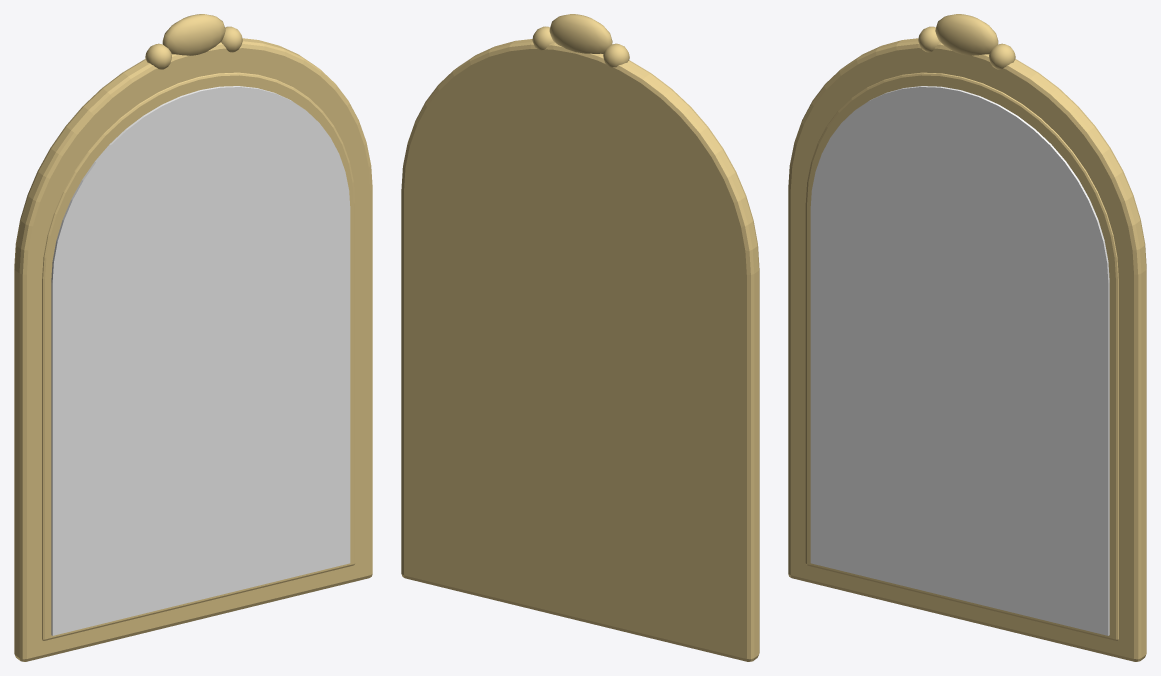
Rendered from mirror_ornate.glb.
The picture shows the model from 3 angles, left to right: view 1: azimuth 30°, elevation 25°; view 2: azimuth 150°, elevation 25°; view 3: azimuth 330°, elevation 25°; orthographic projection.
Visible parts, largest first — view 1: glass, frame, inner, crest, crestl; view 2: frame, crest; view 3: glass, frame, inner, crest, crestr.
Part boxes in pixels (left/top/right/bottom): glass: left=51, top=86, right=350, bottom=635; frame: left=14, top=38, right=372, bottom=661; inner: left=42, top=72, right=355, bottom=640; crest: left=162, top=14, right=225, bottom=55; crestl: left=145, top=43, right=171, bottom=69; frame: left=401, top=39, right=759, bottom=661; crest: left=549, top=14, right=612, bottom=53; glass: left=810, top=86, right=1109, bottom=635; frame: left=788, top=38, right=1146, bottom=661; inner: left=805, top=72, right=1118, bottom=640; crest: left=935, top=14, right=998, bottom=55; crestr: left=989, top=43, right=1015, bottom=69.
Bounding box in the file's own units: 0.9 × 1.47 × 0.063.
